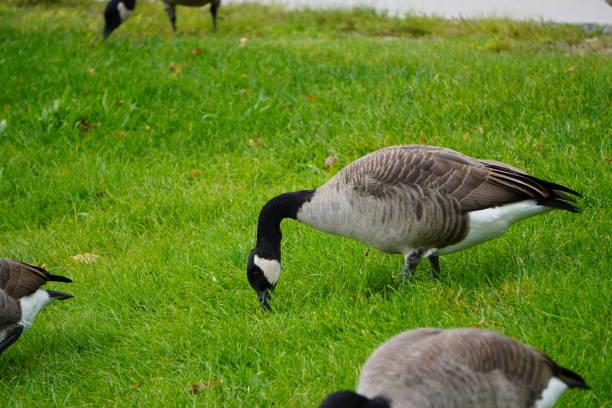Canadian-Goose: (237, 143, 586, 302), (308, 325, 592, 408), (0, 253, 67, 347), (96, 0, 232, 36)
